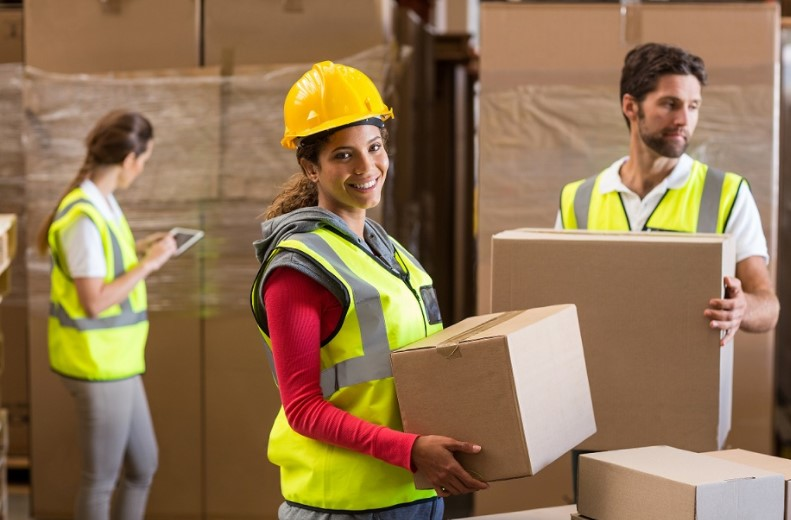stock: (394, 309, 598, 488)
worker: (255, 62, 445, 502)
